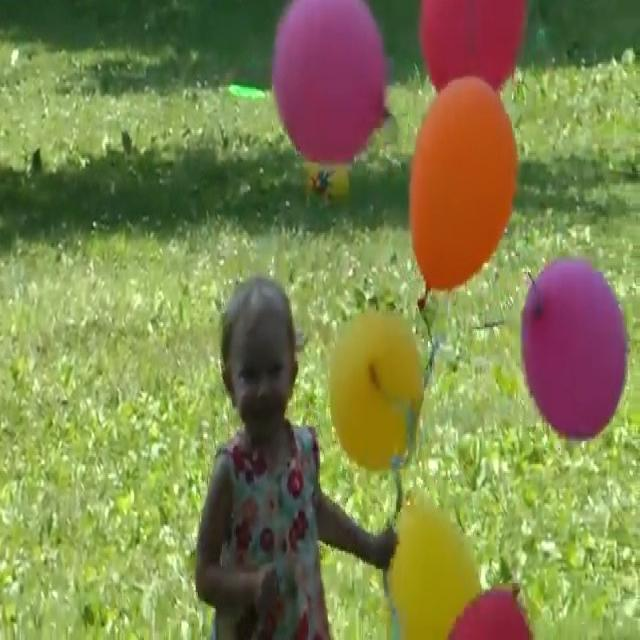balloon: (408, 81, 519, 294), (523, 257, 627, 439), (275, 0, 383, 158), (330, 314, 426, 463), (394, 503, 482, 640), (421, 0, 527, 95), (450, 586, 532, 640)
